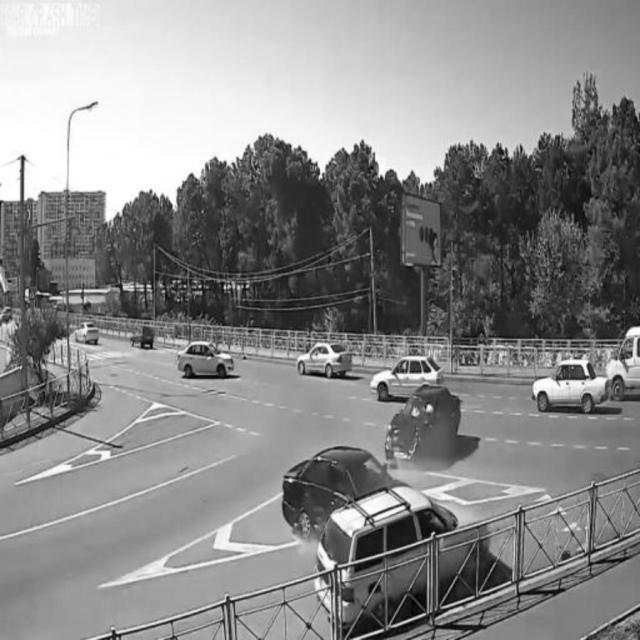vehicle: (315, 491, 487, 625), (280, 443, 391, 527), (387, 387, 463, 463), (529, 359, 607, 416), (369, 350, 443, 398), (175, 338, 236, 383), (606, 326, 640, 399), (296, 336, 354, 378), (72, 315, 102, 345), (130, 321, 155, 356)
